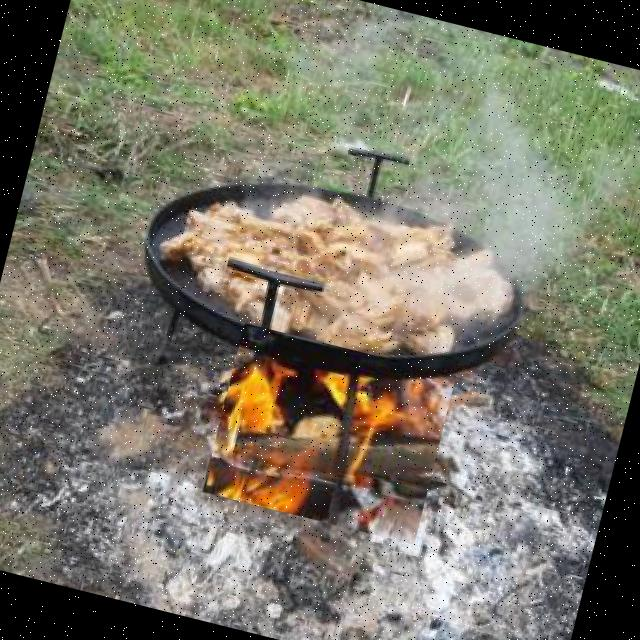fire: (202, 322, 456, 544)
